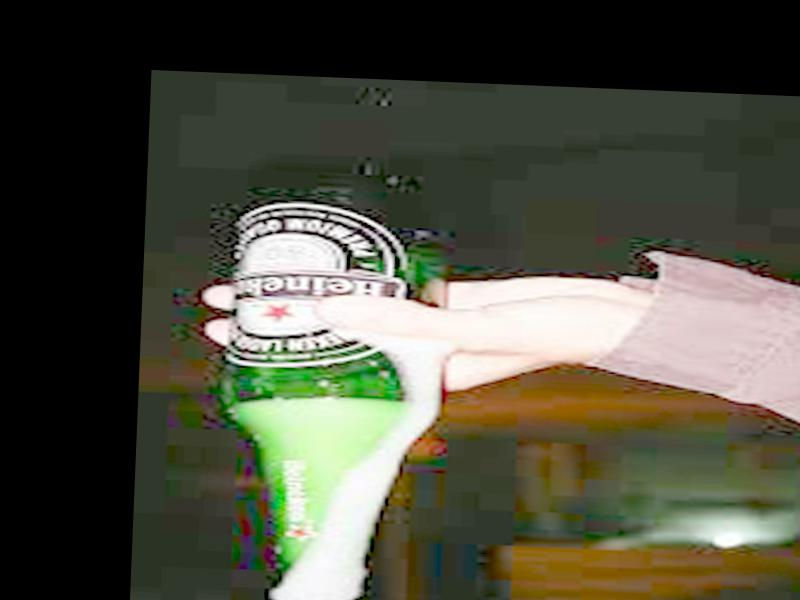Beer: (208, 189, 452, 594)
